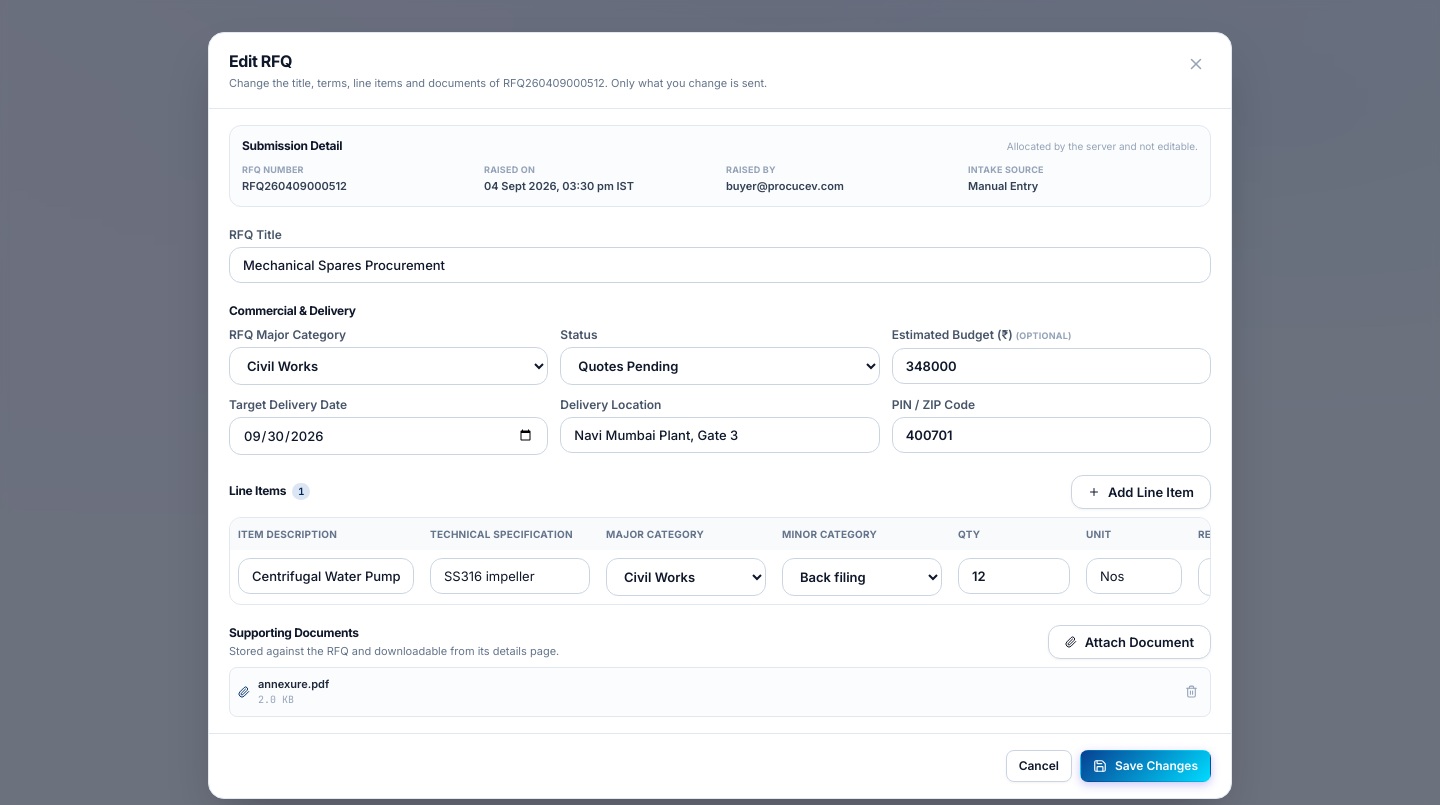
it: RFQEditModal: line items › adds a blank row
The width and height of the screenshot is (1440, 805).
Click the button "Add Line Item" at (1141, 492), box [1071,474,1211,508]
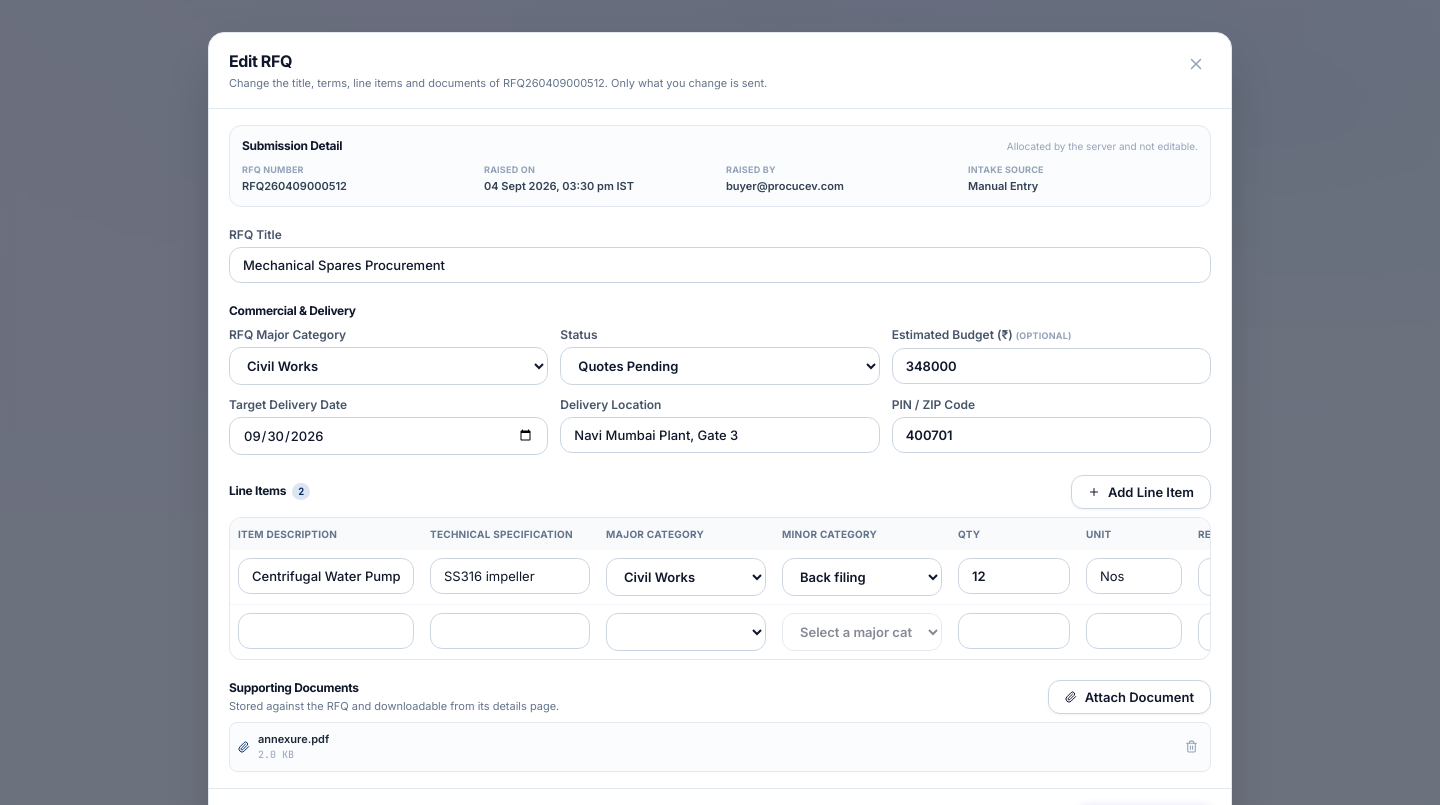
Now the 2nd field named "Item Description" is empty, box [238,612,414,648]
Now the 2nd number field named "Qty" is not empty, box [958,612,1070,648]
